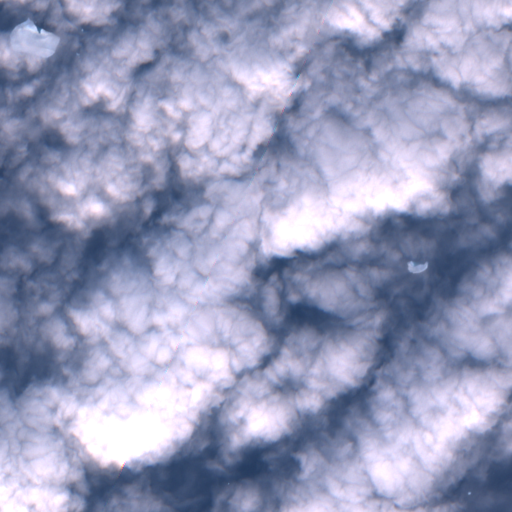Iceberg: (8, 18, 59, 58), (407, 261, 428, 273), (76, 53, 79, 55), (81, 29, 83, 31), (468, 492, 470, 494)
